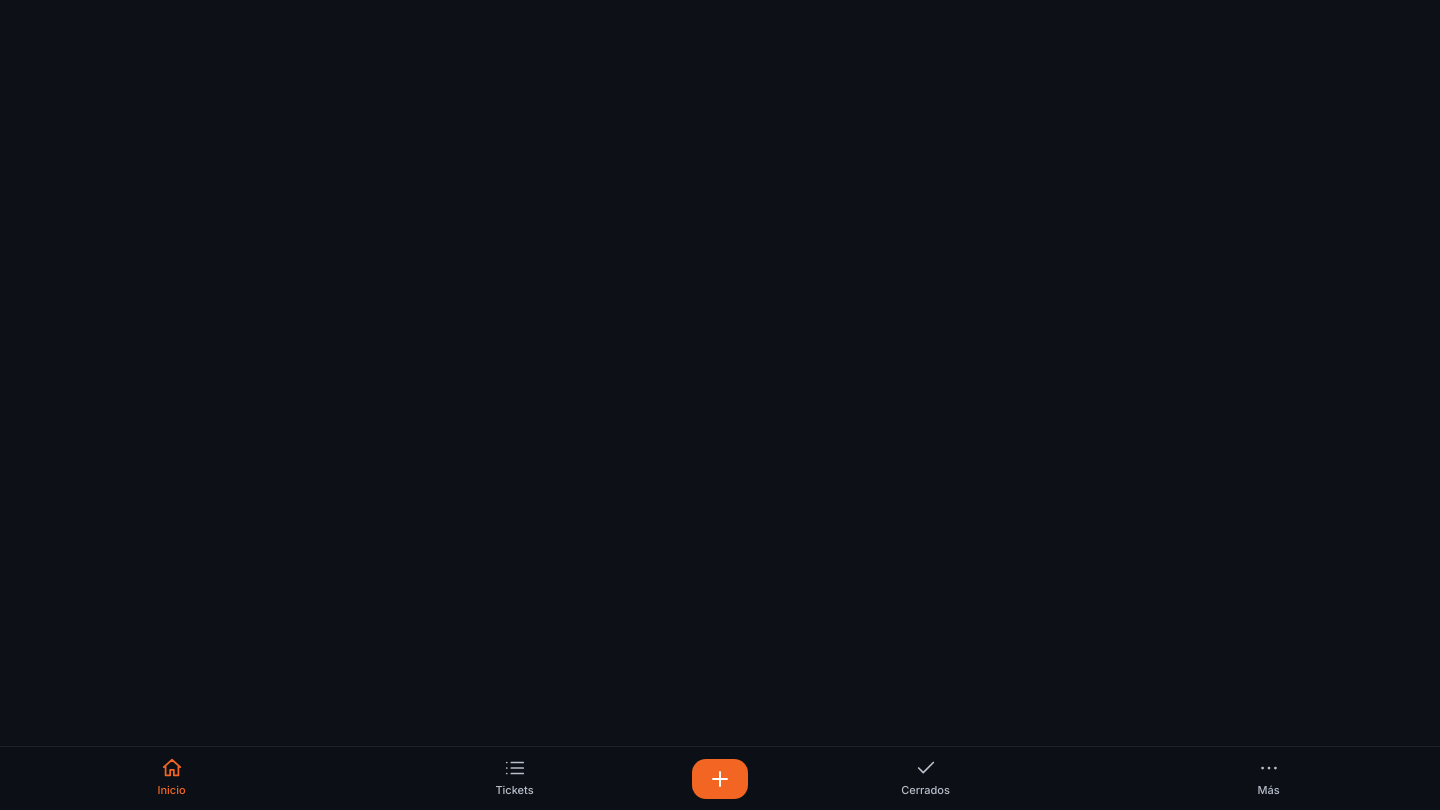
Test: NavegacionMovil › un usuario común no ve administración ni "Tickets cerrados" (ya está en la barra)
Click the button "Más".
click(1268, 778)  # box [1097,747,1439,809]
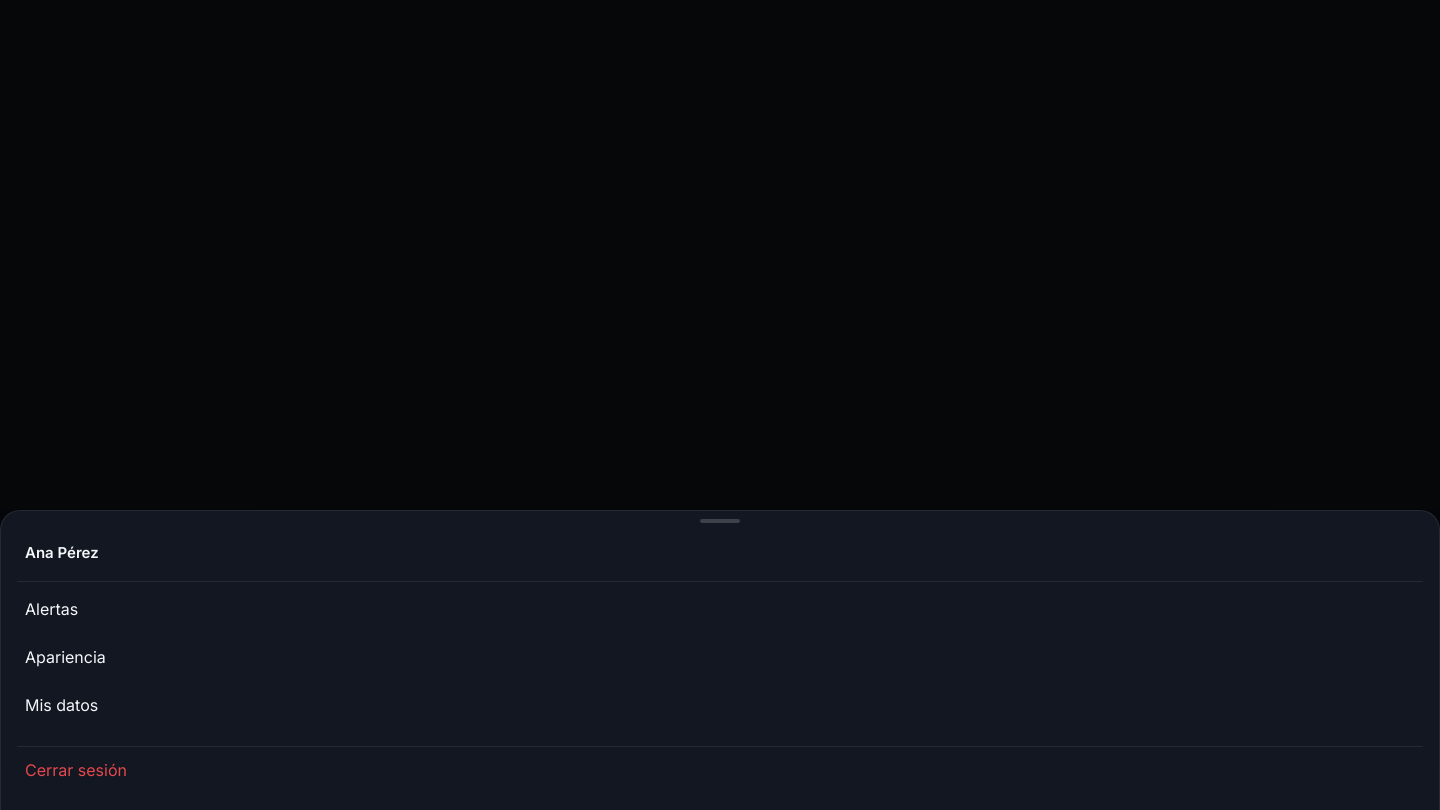
Expected: the link "Alertas" is shown, [25,599,78,619]
